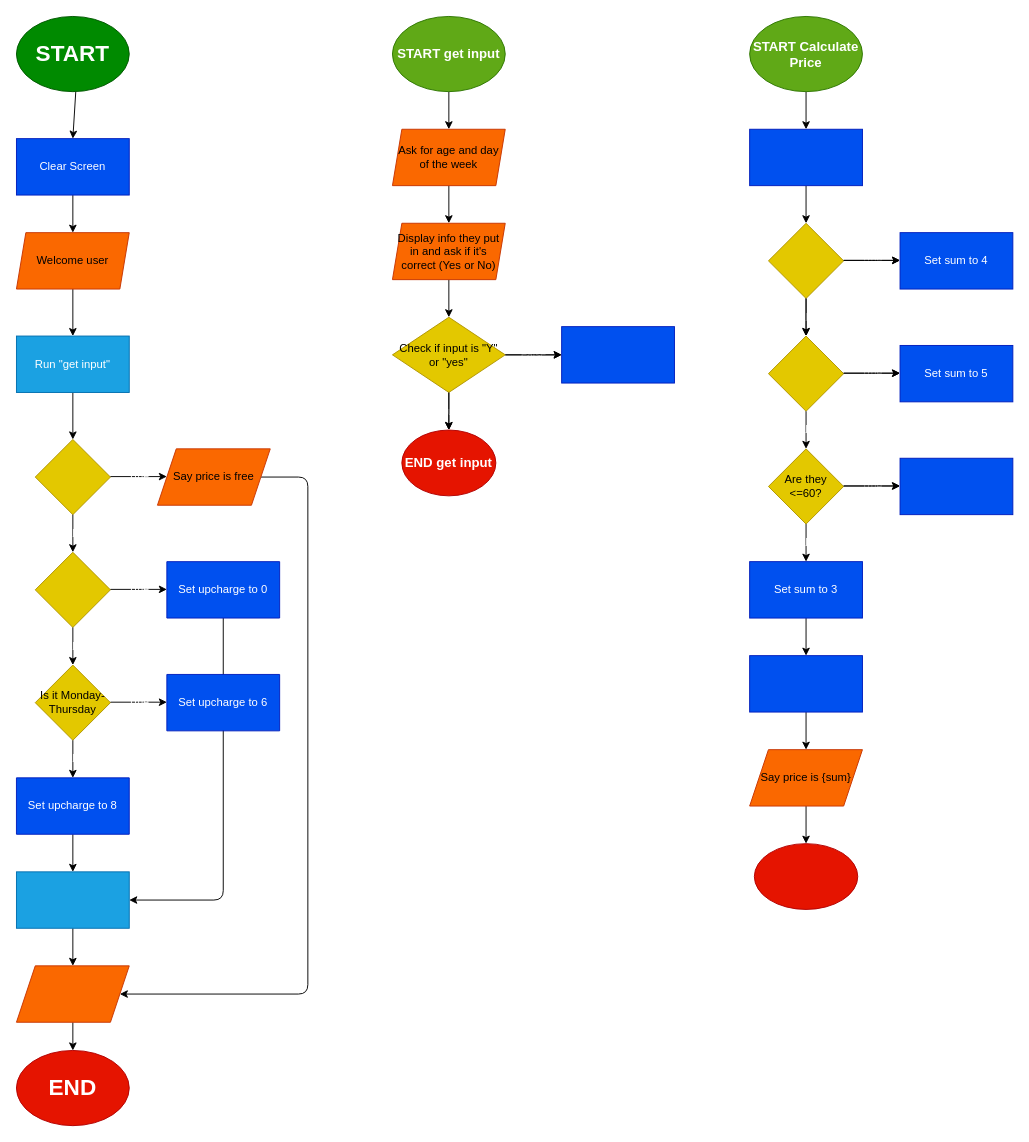
This 1029x1142 diagram has some shape labels left out. The shapes that lost their labels are listed below. From the top down, each one's box as (x1, y1, x2, y2) in pixels, then its label:
(749, 128, 862, 186): Declare Sum = 0
(768, 222, 844, 298): Are they <=12?
(561, 326, 674, 383): Run "get input" function
(768, 335, 844, 411): Are they <=18?
(34, 439, 110, 515): Are they <=6?
(899, 457, 1013, 515): Set sum to 6
(34, 551, 110, 627): Is it sunday?
(749, 655, 862, 712): Add upcharge to sum
(753, 843, 858, 909): END Calculate Price
(16, 871, 129, 928): Run "Calculate price"
(16, 965, 129, 1022): Thank user
